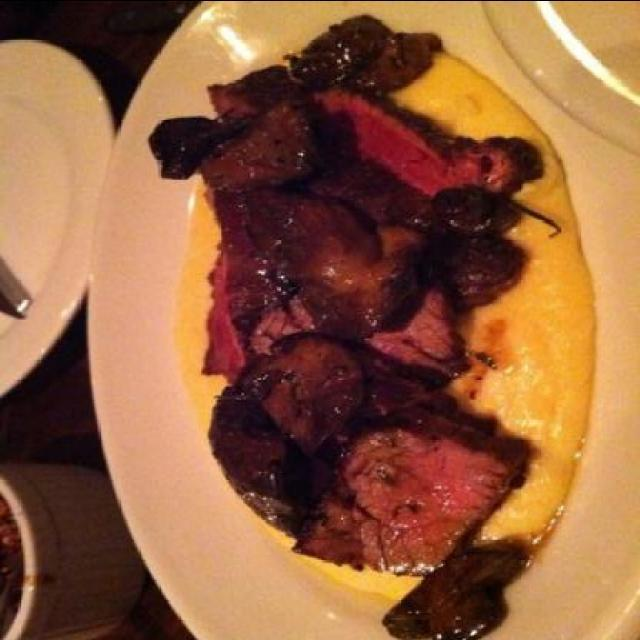Steak: (199, 49, 553, 582)
